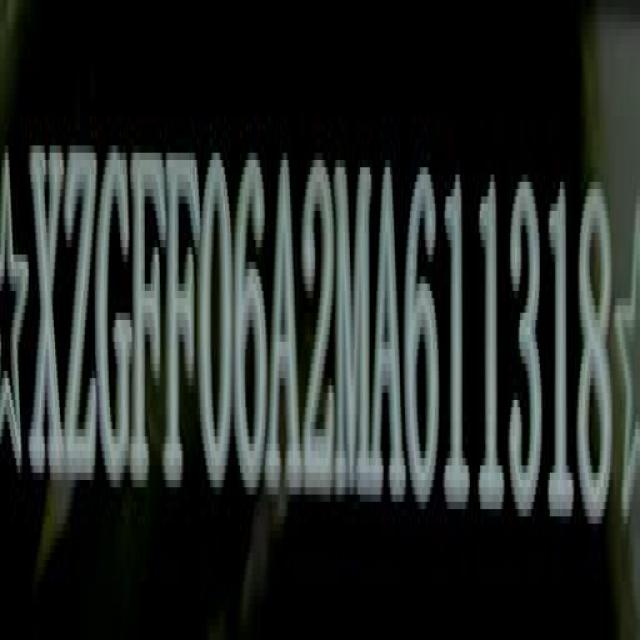0: (200, 143, 237, 499)
1: (475, 169, 504, 524), (549, 173, 576, 524), (443, 165, 466, 514)
2: (302, 148, 339, 510)
3: (510, 176, 544, 528)
6: (406, 157, 441, 518), (236, 146, 268, 500)
8: (579, 176, 615, 523)
A: (268, 148, 302, 510), (372, 154, 406, 514)
F: (166, 135, 200, 502), (134, 137, 169, 493)
G: (100, 142, 135, 493)
M: (339, 148, 374, 505)
X: (33, 132, 65, 490)
Z: (64, 136, 100, 491)
